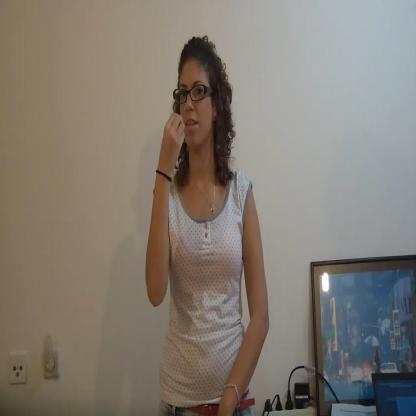Food: (139, 29, 249, 241)
